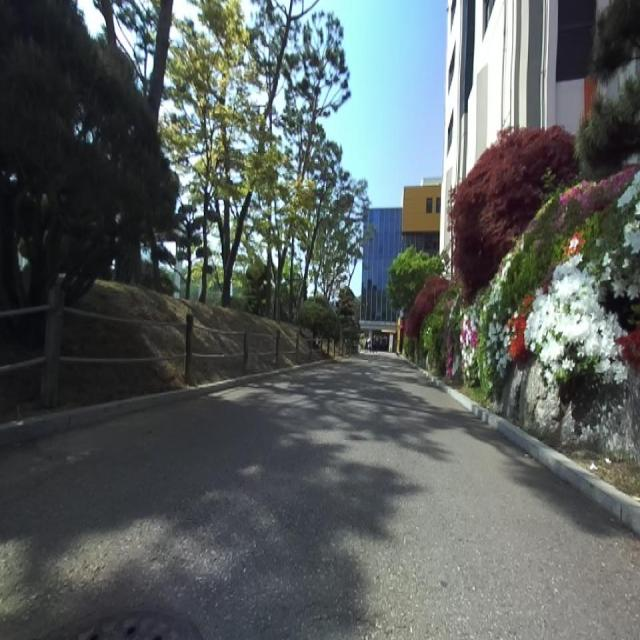sidewalk: (0, 355, 640, 640)
